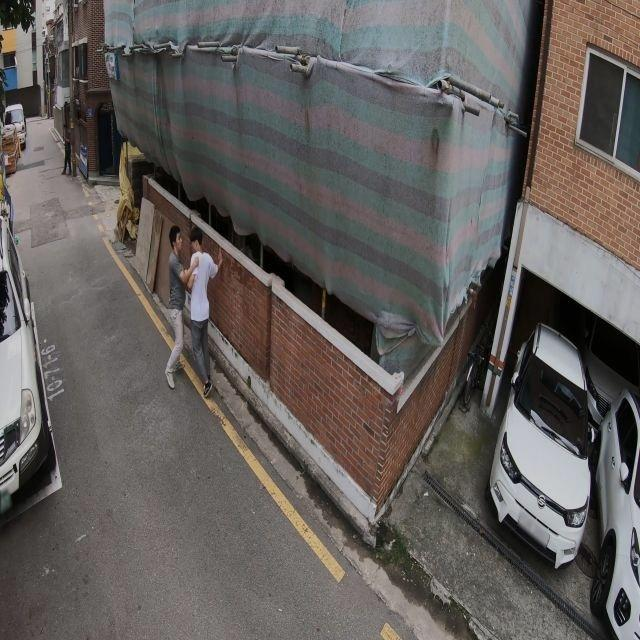fight: (163, 225, 219, 395)
